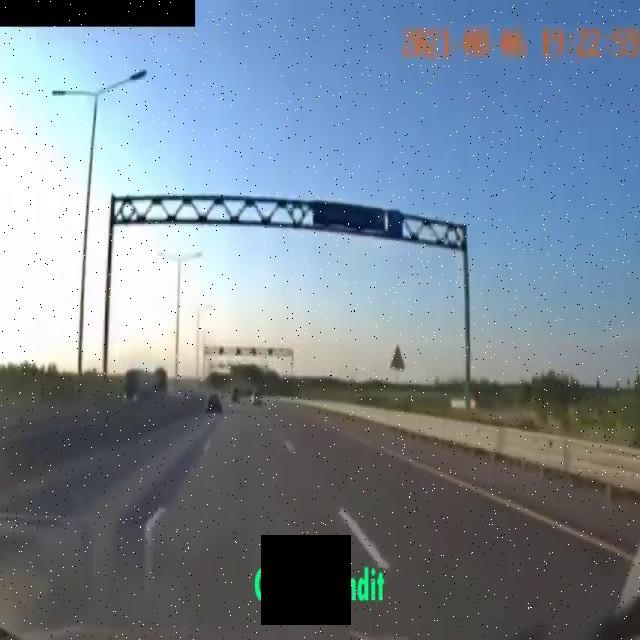severe: (122, 362, 172, 410)
